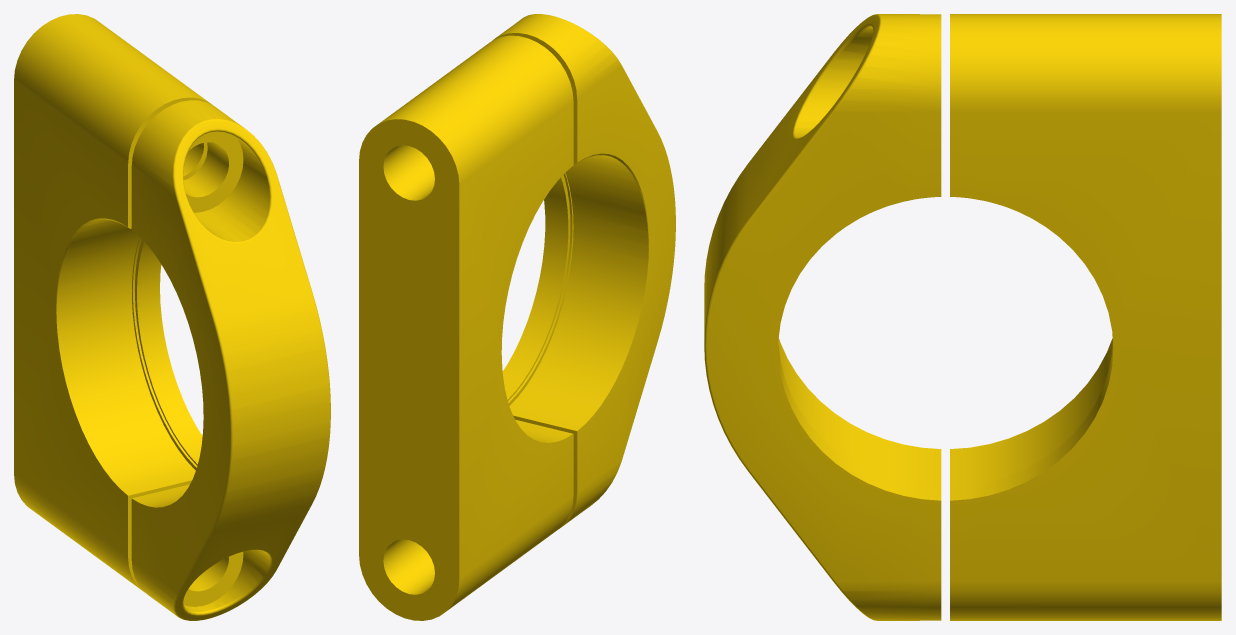
Rendered from UA_26EV_Steering_Assembly__UA_26EV_Kaz_Steering_Rack_Clamp_1.dae.
3 views of the same model, side by side, from view 1: azimuth 30°, elevation 25°; view 2: azimuth 150°, elevation 25°; view 3: azimuth 270°, elevation 25° (orthographic). The views are drawn at different scales.
Visible parts, largest first — view 1: node0; view 2: node0; view 3: node0.
Part boxes in pixels (box(x1,y1,x2,y2)): node0: box(14, 14, 330, 620); node0: box(359, 14, 675, 620); node0: box(704, 14, 1221, 620).
Bounding box in the file's own units: 0.0127 × 0.0603 × 0.0476.
